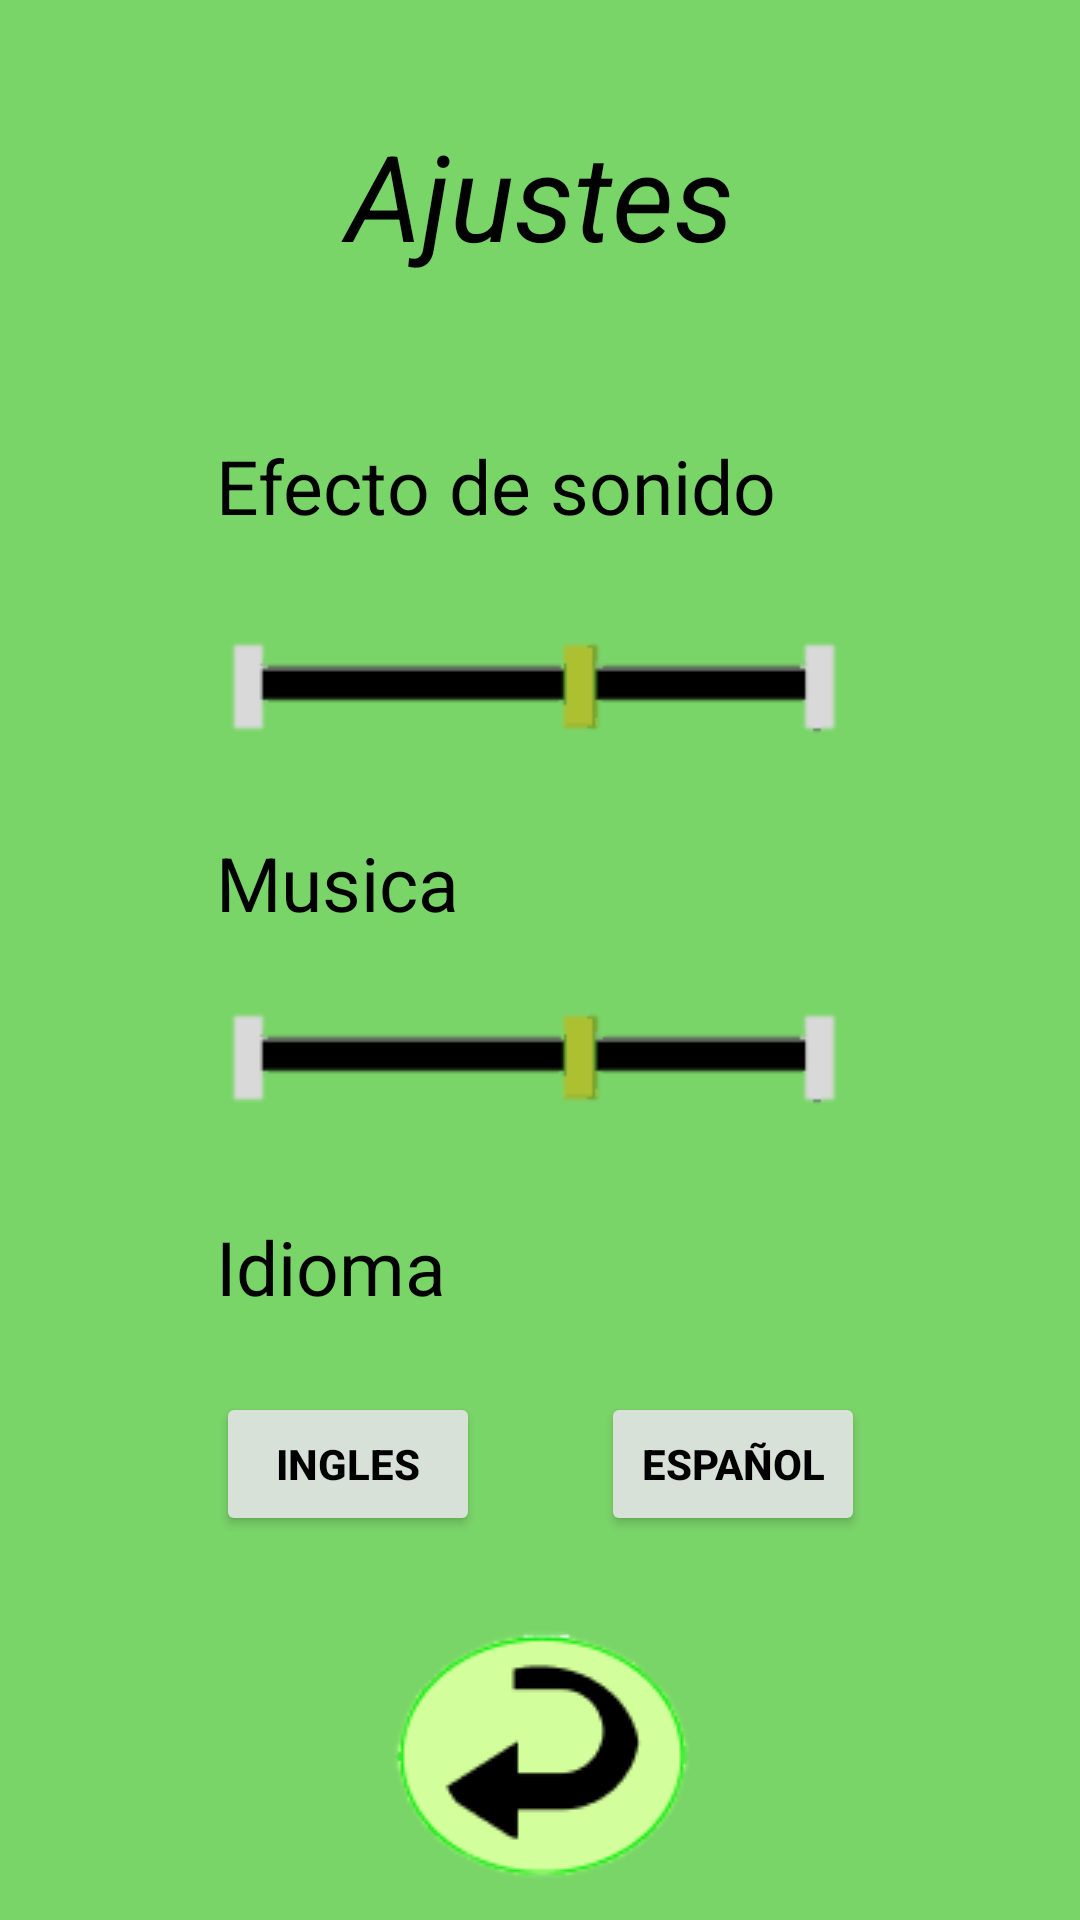

Screen size 1080×1920. Icon name, then its center in pixels as [x,y]:
flecharetroceso: [541,1754]
